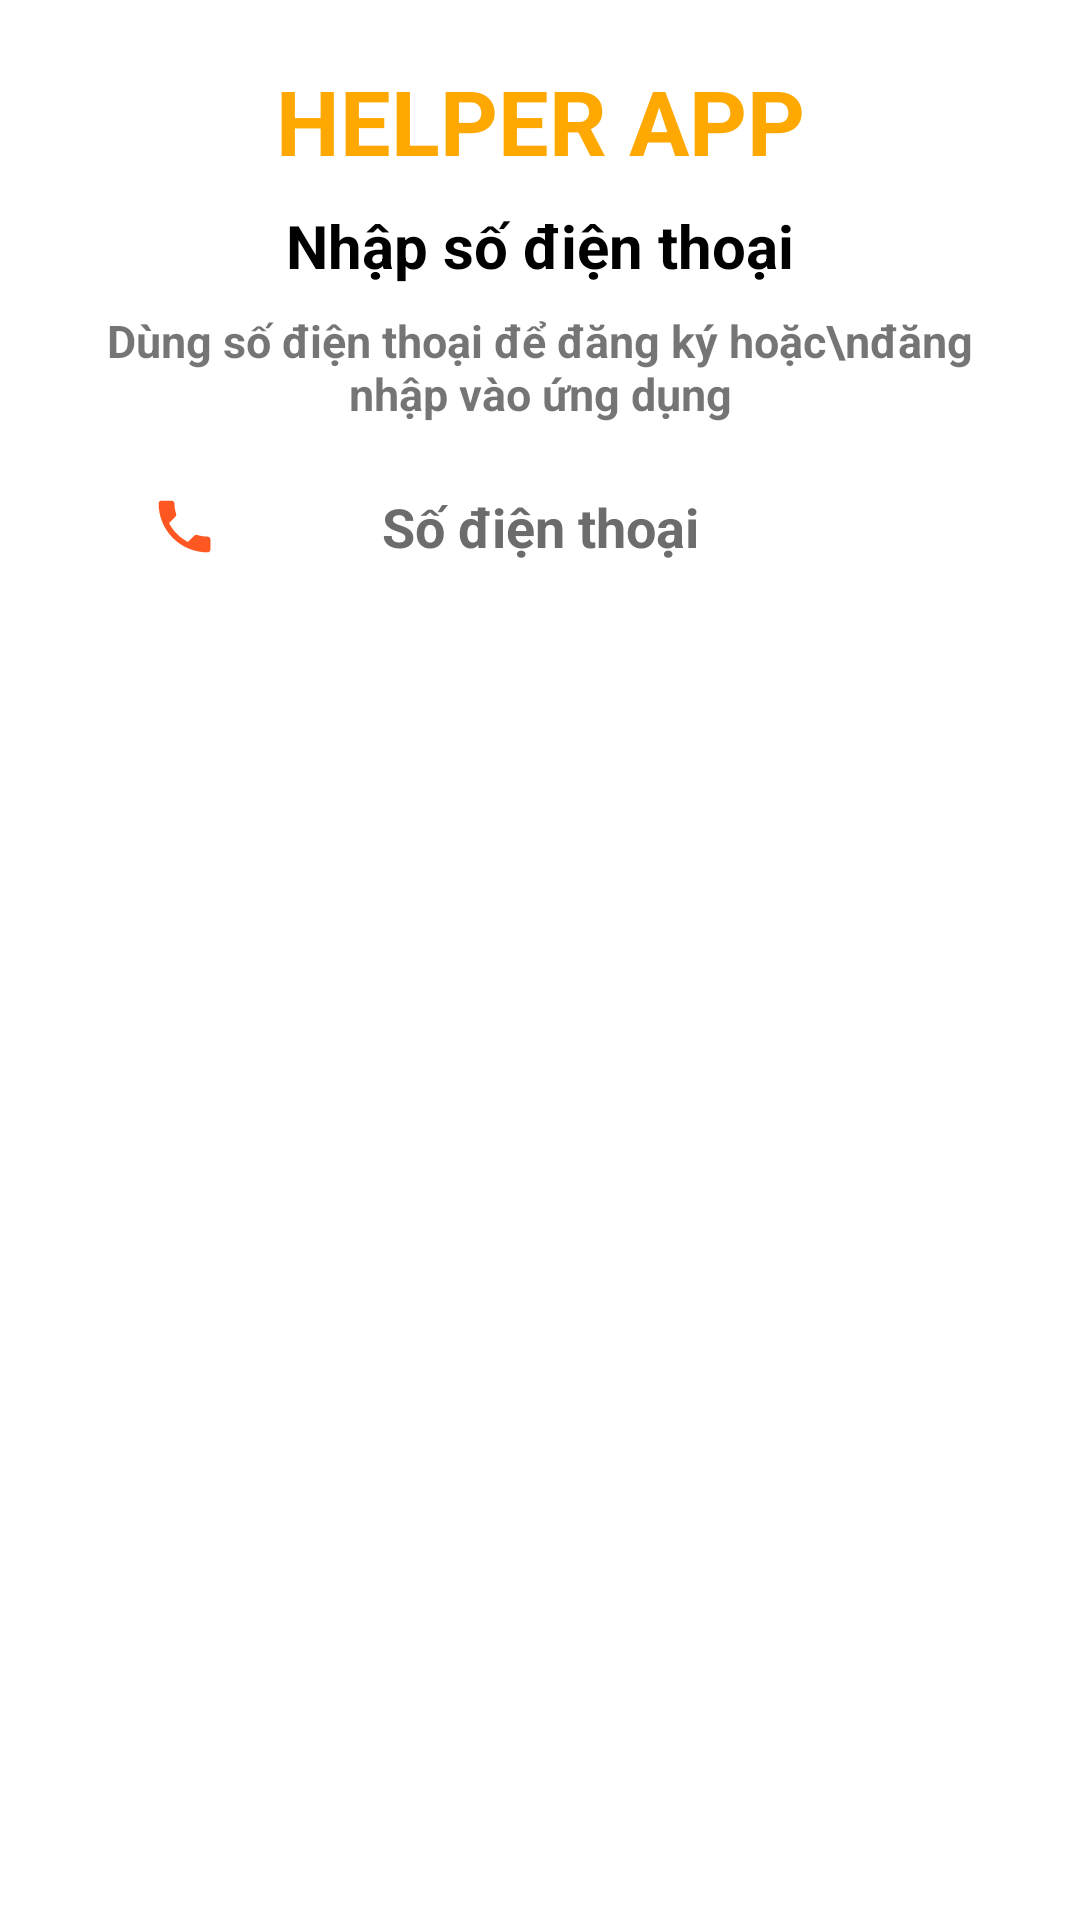

Where to tap for icons on this 1080px×1920px app screen, as point (x, y):
phone: point (184, 526)
